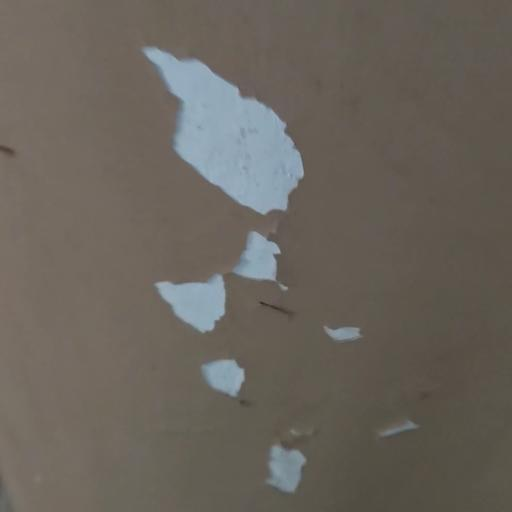peeling: (128, 31, 317, 512), (319, 310, 368, 364), (372, 408, 425, 441)
